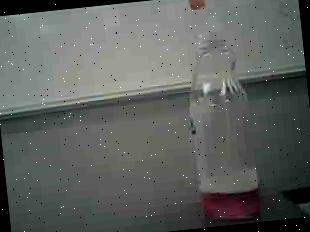hazard: (174, 0, 269, 225)
